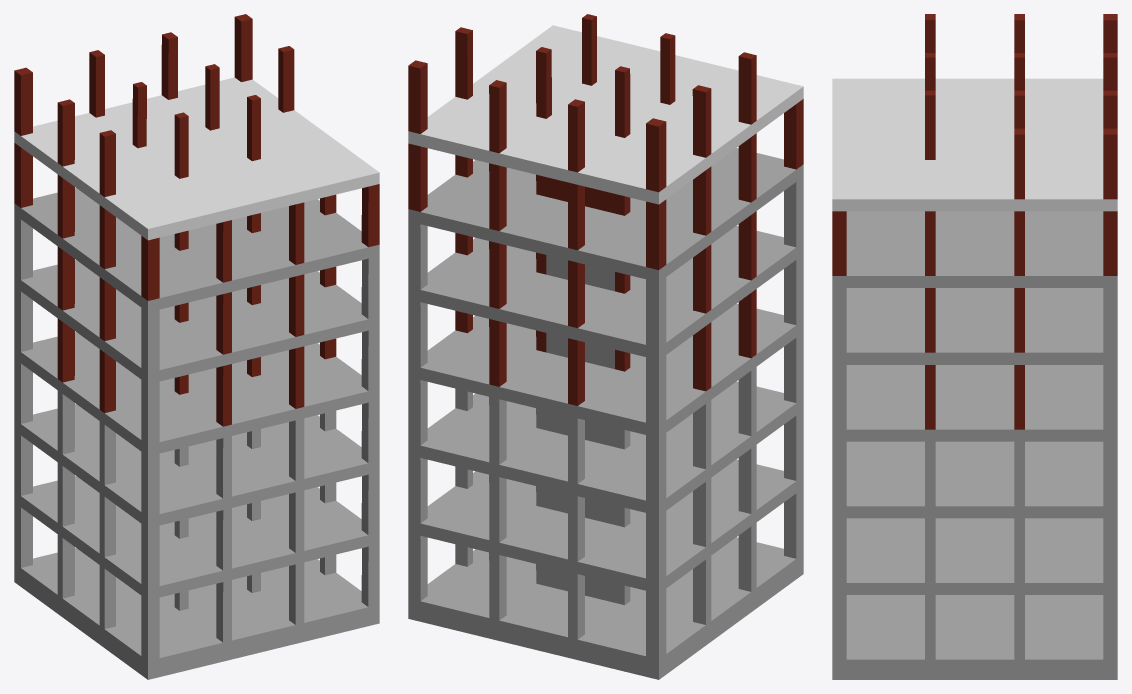
The model's file is BatimentConstru.fbx.
3 renders of one model, left to right at view 1: azimuth 30°, elevation 25°; view 2: azimuth 150°, elevation 25°; view 3: azimuth 270°, elevation 25°, orthographic. The views are drawn at different scales.
Visible parts, largest first — view 1: BatimentConstru; view 2: BatimentConstru; view 3: BatimentConstru.
Boxes of the visible parts, x1,y1,x2,y2 form: BatimentConstru: [14, 14, 379, 679]; BatimentConstru: [408, 14, 803, 679]; BatimentConstru: [832, 14, 1117, 679].
Size of the model in its own units: 1600 by 3375 by 1600.
